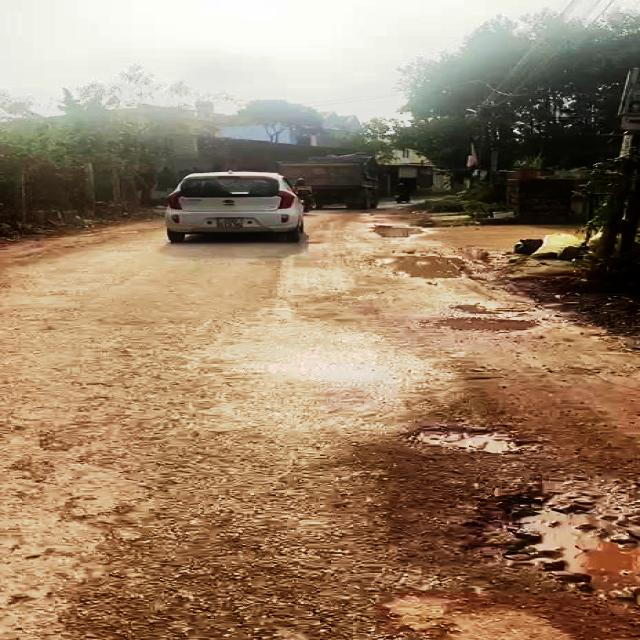pothole: (473, 484, 640, 610), (402, 422, 522, 461), (365, 252, 476, 283), (435, 315, 546, 336), (364, 222, 425, 238)
